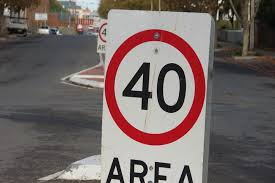sp40: (109, 31, 205, 146), (97, 16, 130, 57)
